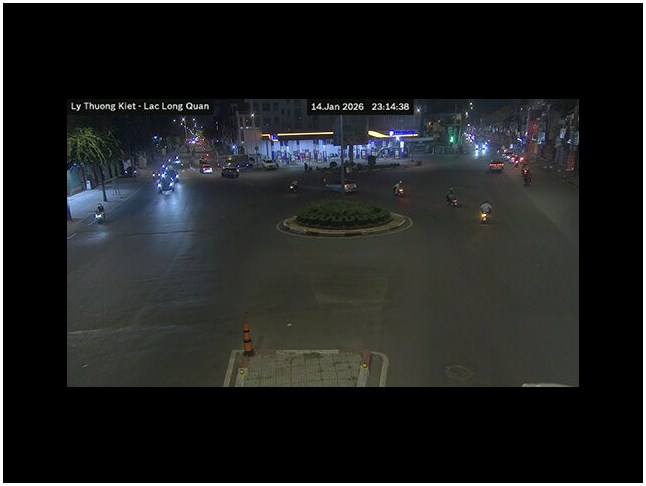car: (322, 179, 358, 192), (221, 166, 240, 178), (488, 161, 505, 173)
